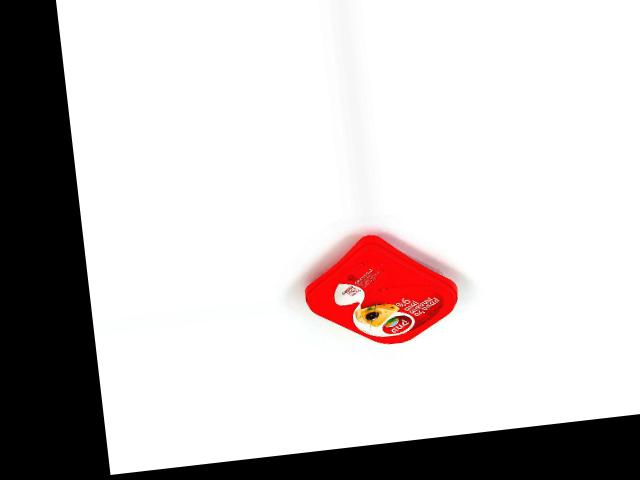cheese: (298, 225, 462, 353)
